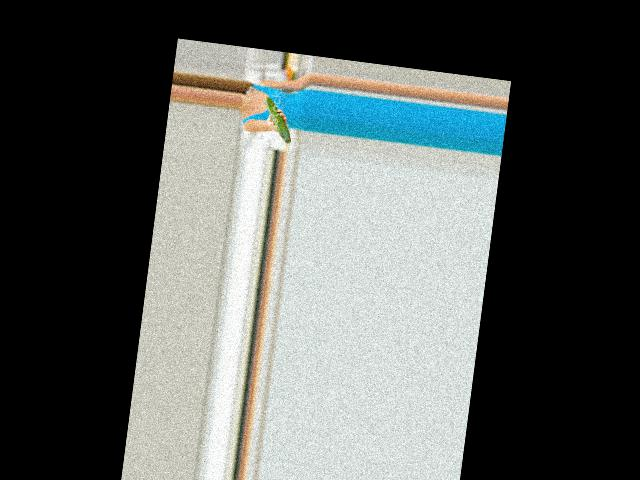cucumber: (260, 96, 296, 143)
